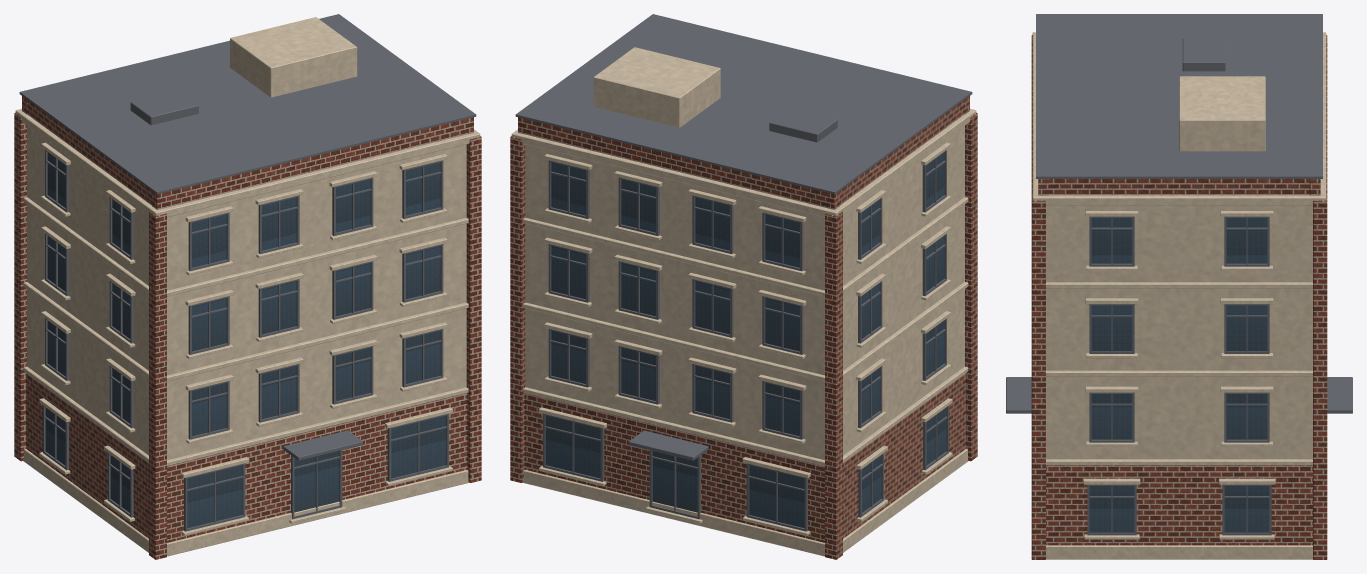
The model's file is bld_urban_facade_aaa_lod1-ac64ab2dff5e.glb.
The picture shows the model from 3 angles, left to right: view 1: azimuth 30°, elevation 25°; view 2: azimuth 150°, elevation 25°; view 3: azimuth 270°, elevation 25°; orthographic projection. The views are drawn at different scales.
Visible parts, largest first — view 1: bld_urban_facade_aaa_lod1; view 2: bld_urban_facade_aaa_lod1; view 3: bld_urban_facade_aaa_lod1.
Boxes of the visible parts, <box> form: bld_urban_facade_aaa_lod1: <box>14,14,481,559</box>; bld_urban_facade_aaa_lod1: <box>510,14,977,559</box>; bld_urban_facade_aaa_lod1: <box>1006,14,1352,559</box>.
Bounding box in the file's own units: 12.83 × 14.88 × 11.29.
4 materials, 3 textured.
